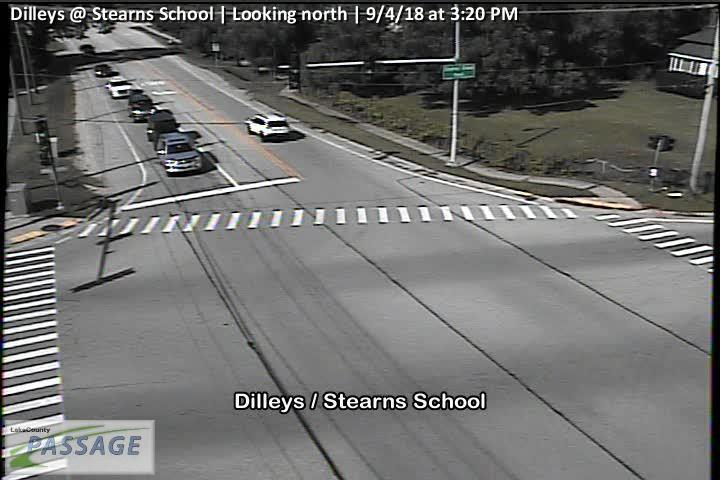SUV: (156, 133, 202, 172), (246, 112, 290, 142), (147, 110, 178, 141), (129, 92, 153, 124)
Sedan: (106, 76, 132, 99), (95, 64, 111, 77)
